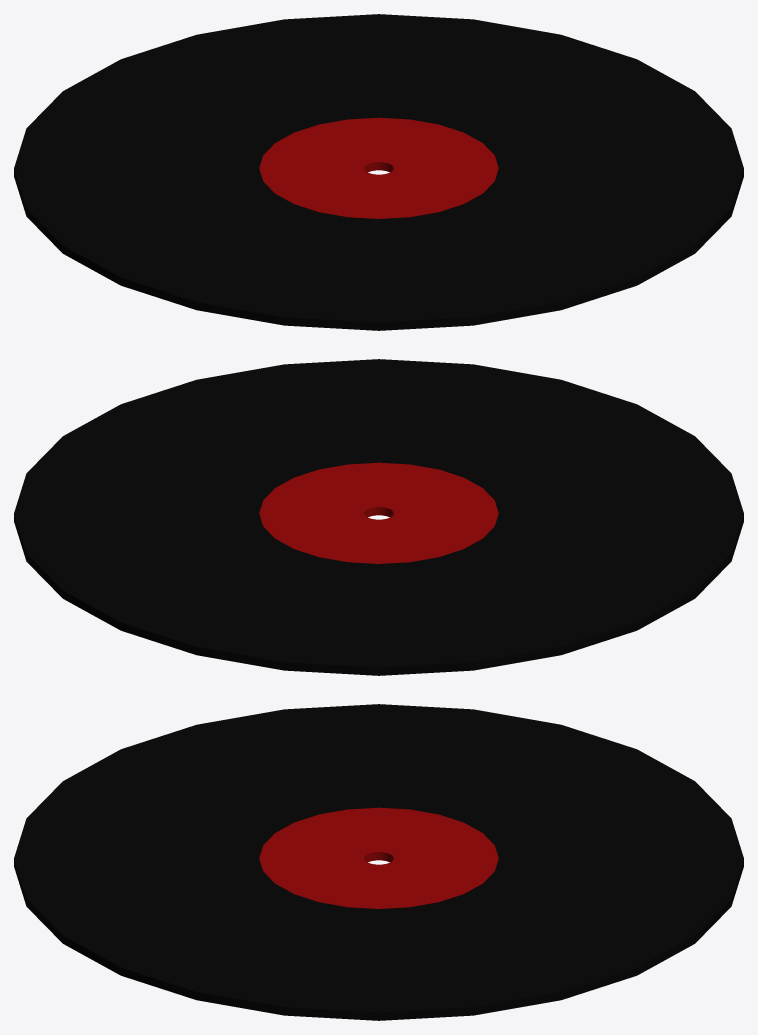
The model's file is cd0944ff-b10d-494e-bfd6-ac1fa39652ce.glb.
3 views of the same model, one above another, from view 1: azimuth 30°, elevation 25°; view 2: azimuth 150°, elevation 25°; view 3: azimuth 270°, elevation 25° (orthographic).
Parts seen in each view (by area): view 1: VinylDisc; view 2: VinylDisc; view 3: VinylDisc.
Boxes of the visible parts, box(x1,y1,x2,y2) form: VinylDisc: box(14, 14, 743, 330); VinylDisc: box(14, 359, 743, 675); VinylDisc: box(14, 704, 743, 1020).
Size of the model in its own units: 0.3937 by 0.00492 by 0.3937.
1 material, 1 textured.
